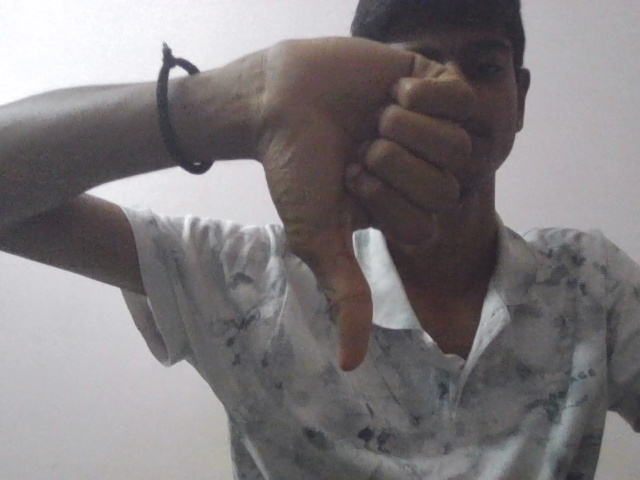no: (255, 37, 473, 374)
